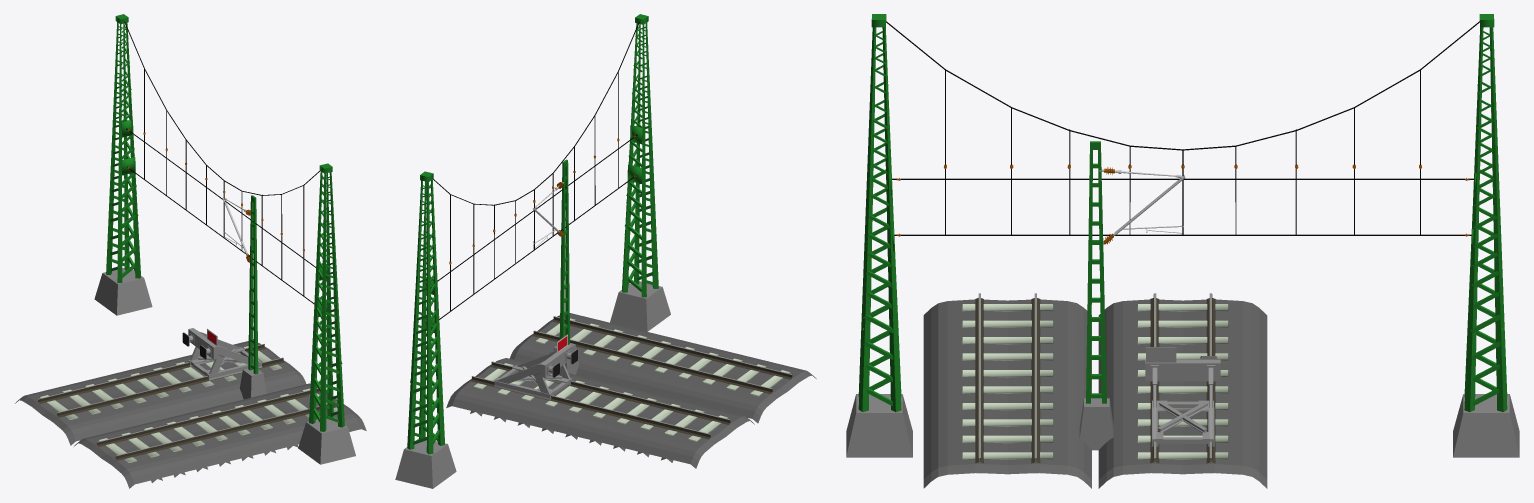
File: pole_double.glb
3 views of the same model, side by side, from view 1: azimuth 30°, elevation 25°; view 2: azimuth 150°, elevation 25°; view 3: azimuth 270°, elevation 25° (orthographic). The views are drawn at different scales.
Parts seen in each view (by area): view 1: PoleBig, Plane.004, Plane.002, Plane.003, Plane.001, Pole_SingleSmall, Cube; view 2: PoleBig, Plane.002, Plane.004, Plane.003, Plane.001, Cube, Pole_SingleSmall; view 3: PoleBig, Plane.004, Plane.002, Plane.003, Plane.001, Pole_SingleSmall, Cube, Cube.001.
Boxes of the visible parts, x1,y1,x2,y2 form: PoleBig: (94,14,355,464); Plane.004: (74,383,366,488); Plane.002: (15,341,306,445); Plane.003: (96,388,337,462); Plane.001: (37,344,284,419); Pole_SingleSmall: (222,195,266,399); Cube: (182,328,262,380); PoleBig: (395,14,670,488); Plane.002: (446,358,754,468); Plane.004: (509,313,816,423); Plane.003: (532,316,792,396); Plane.001: (471,361,730,441); Cube: (494,345,577,399); Pole_SingleSmall: (533,159,578,374); PoleBig: (846,14,1519,457); Plane.004: (923,299,1091,488); Plane.002: (1098,299,1267,488); Plane.003: (962,293,1053,463); Plane.001: (1137,293,1228,463); Pole_SingleSmall: (1079,141,1185,450); Cube: (1145,356,1220,446); Cube.001: (1146,347,1208,432).
Size of the model in its own units: 10.49 by 12.23 by 17.3.
